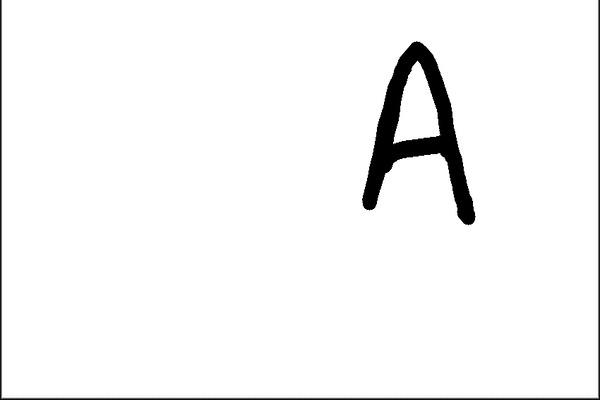A: (351, 34, 486, 238)
